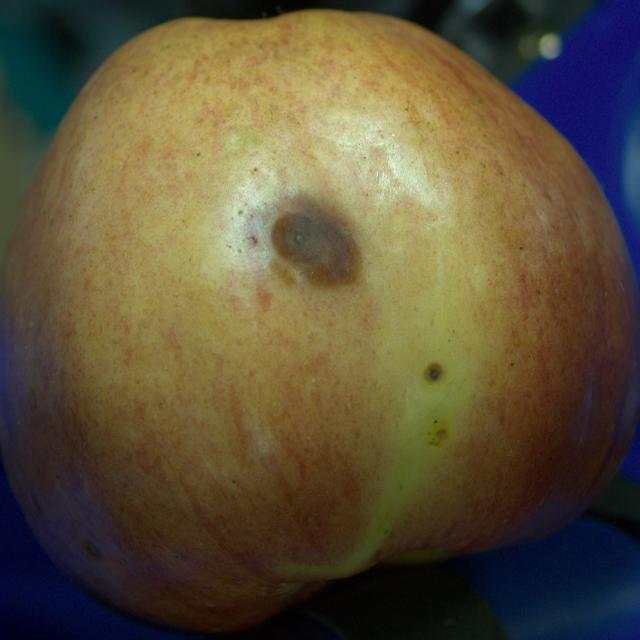apple: (0, 11, 639, 632)
pest: (430, 429, 447, 445), (84, 541, 99, 558)
rotten: (271, 202, 360, 286), (424, 363, 442, 383)
